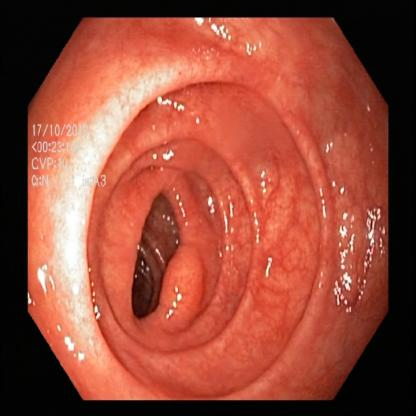Labels: (29, 110, 113, 190)
Polyps: (146, 235, 223, 319)
